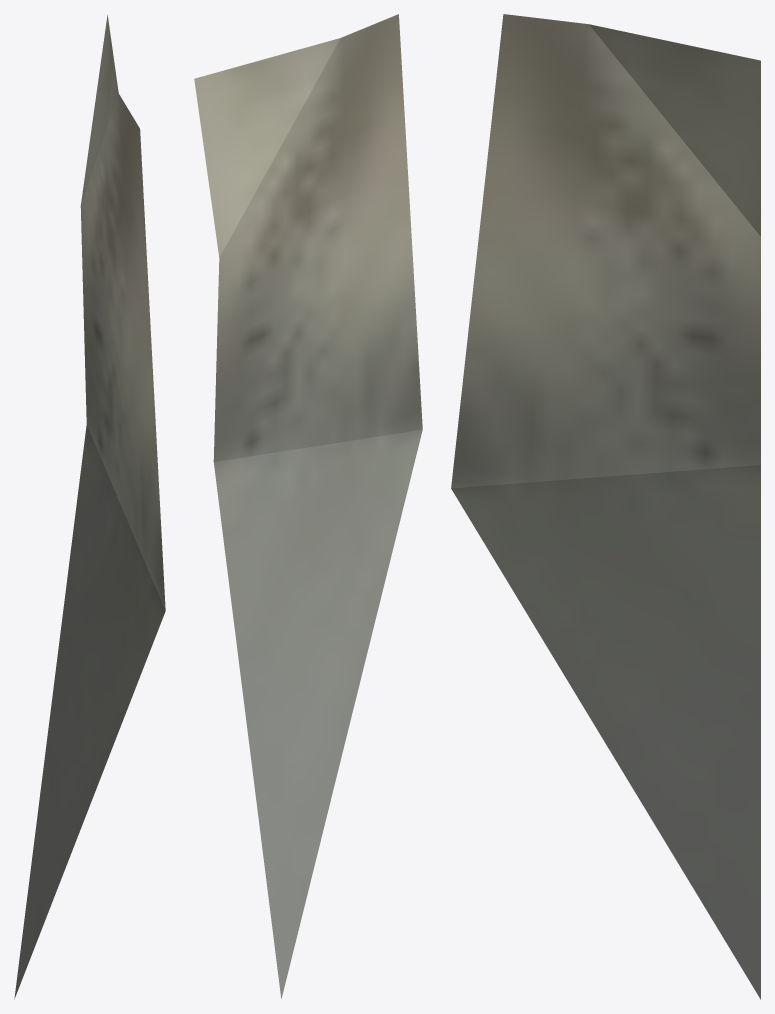
3 views of the same model, side by side, from view 1: azimuth 30°, elevation 25°; view 2: azimuth 150°, elevation 25°; view 3: azimuth 270°, elevation 25° (orthographic). The views are drawn at different scales.
Size of the model in its own units: 0.0393 by 0.3875 by 0.1104.
1 material, 1 textured.
